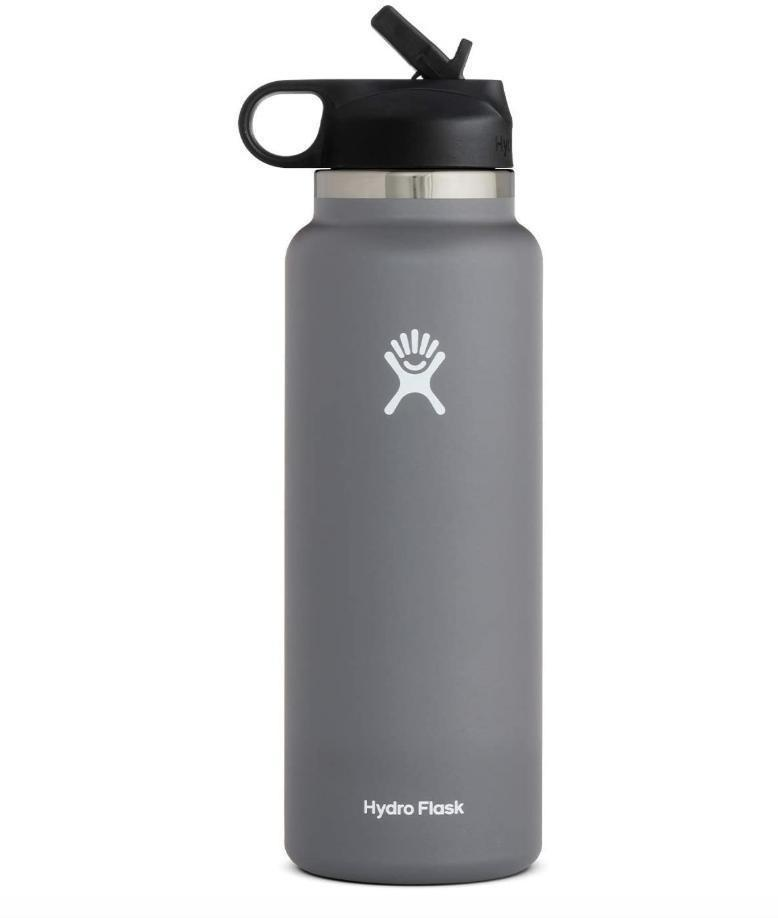gym bottle: (239, 1, 551, 894)
